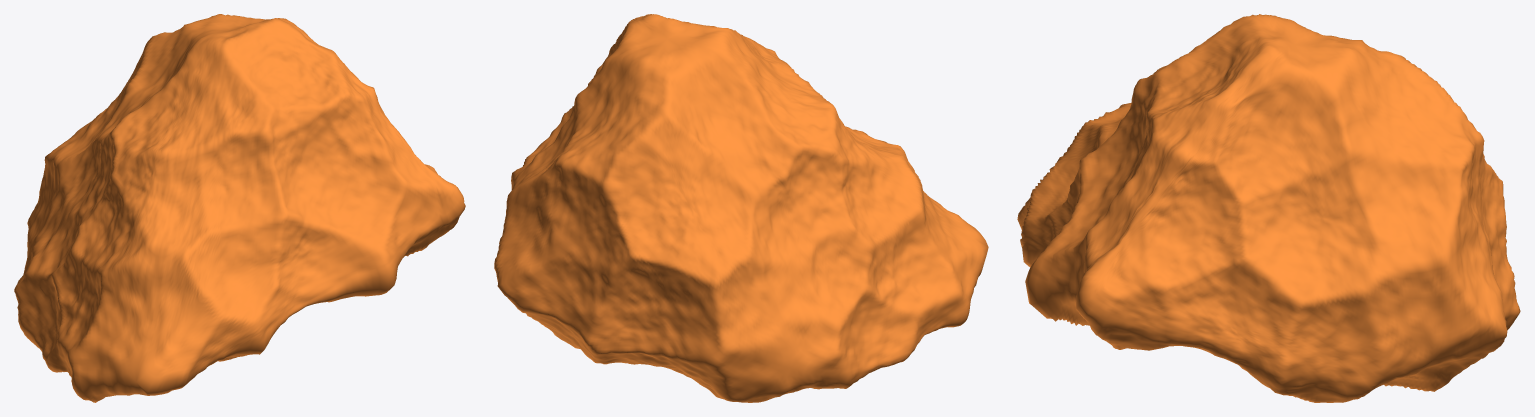
Rendered from Asteroid.fbx.
3 views of the same model, side by side, from view 1: azimuth 30°, elevation 25°; view 2: azimuth 150°, elevation 25°; view 3: azimuth 270°, elevation 25° (orthographic). The views are drawn at different scales.
Parts seen in each view (by area): view 1: rock.001; view 2: rock.001; view 3: rock.001.
Part boxes in pixels (x1,y1,x2,y2): rock.001: (14,14,465,402); rock.001: (494,14,988,402); rock.001: (1017,14,1520,402).
Size of the model in its own units: 3.14 by 2.96 by 2.37.
